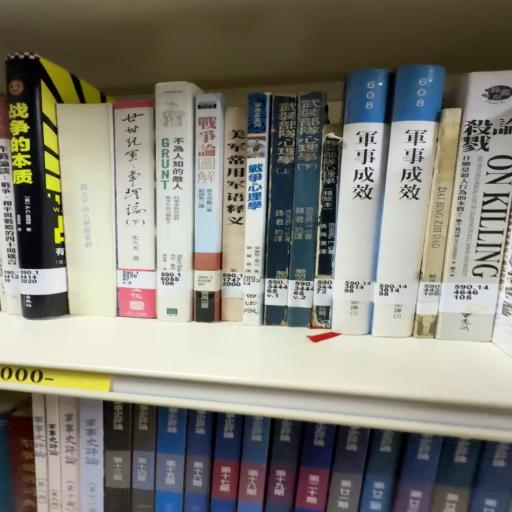backward: (60, 106, 120, 324)
book: (2, 59, 68, 321), (153, 87, 201, 328), (113, 104, 157, 326), (196, 90, 228, 322)
